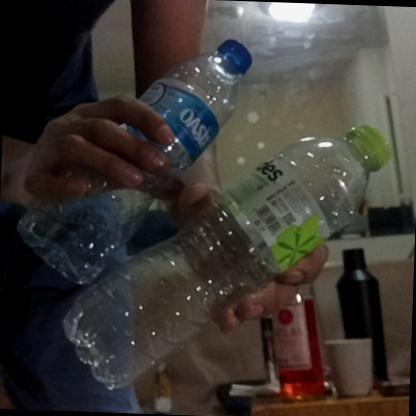plastic_bottles: (67, 105, 390, 393), (21, 29, 252, 283)
